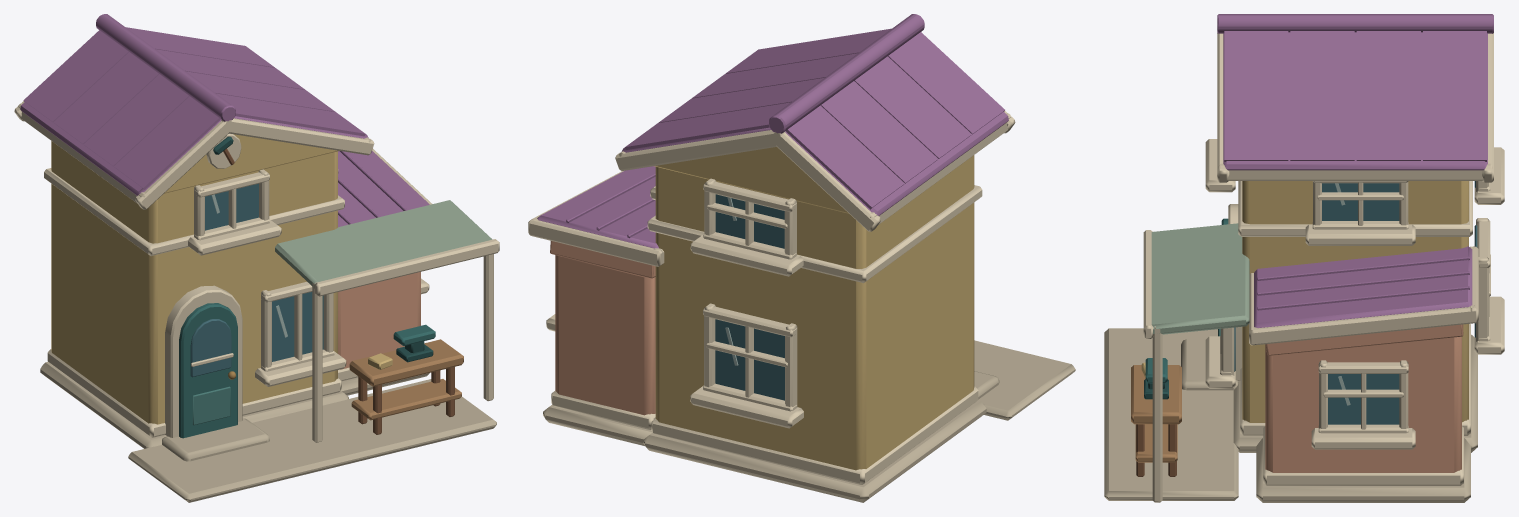
The model's file is workshop_level_3.glb.
3 renders of one model, left to right at view 1: azimuth 30°, elevation 25°; view 2: azimuth 150°, elevation 25°; view 3: azimuth 270°, elevation 25°, orthographic. The views are drawn at different scales.
Parts seen in each view (by area): view 1: workshop_level_3_runtime; view 2: workshop_level_3_runtime; view 3: workshop_level_3_runtime.
Part boxes in pixels (x1=…): workshop_level_3_runtime: x1=14, y1=14, x2=499, y2=502; workshop_level_3_runtime: x1=528, y1=14, x2=1075, y2=502; workshop_level_3_runtime: x1=1104, y1=14, x2=1504, y2=502.
Bounding box in the file's own units: 4.26 × 4.08 × 3.99.
